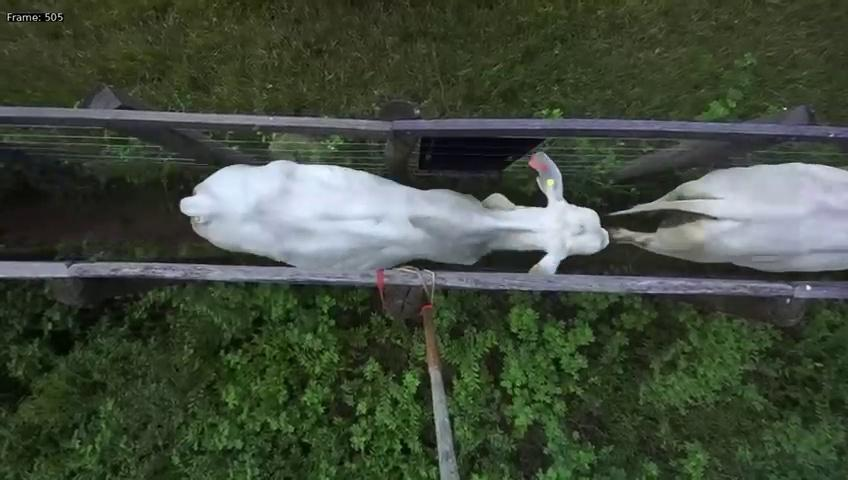cattle: (169, 133, 610, 276)
